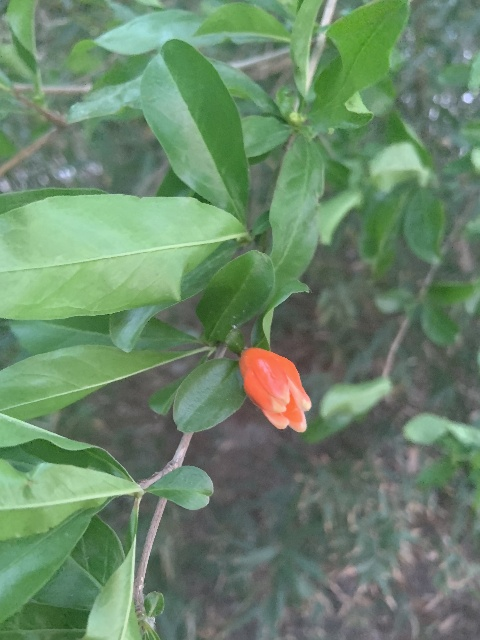flower: (239, 347, 311, 432)
